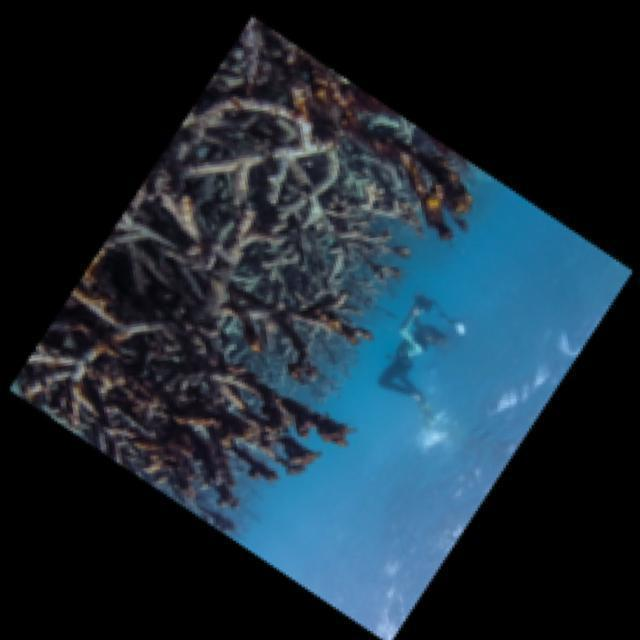Dead Coral: (88, 235, 332, 553), (246, 12, 456, 295)
